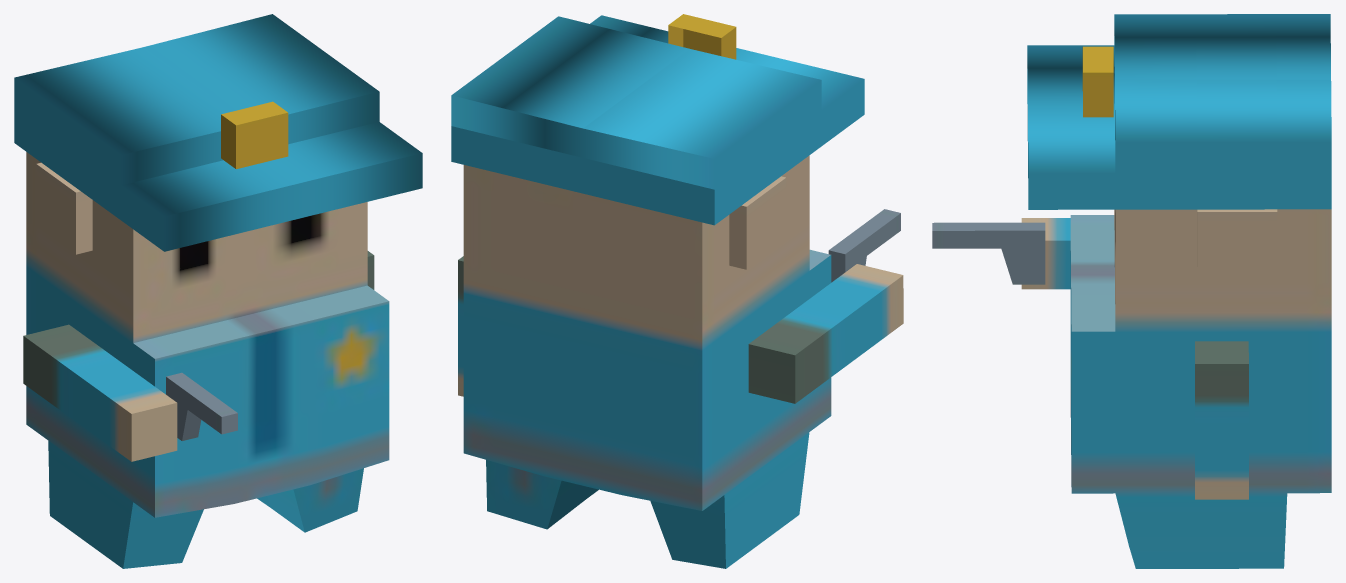
File: Police.fbx
3 renders of one model, left to right at view 1: azimuth 30°, elevation 25°; view 2: azimuth 150°, elevation 25°; view 3: azimuth 270°, elevation 25°, orthographic.
Visible parts, largest first — view 1: Body, Gun, CapLogo, L_Hand; view 2: Body, Gun, L_Hand, CapLogo, R_Hand; view 3: Body, R_Hand, L_Hand, CapLogo, Gun.
Boxes of the visible parts, x1=… form: Body: x1=14, y1=14, x2=422, y2=568; Gun: x1=23, y1=324, x2=177, y2=461; CapLogo: x1=221, y1=101, x2=288, y2=169; L_Hand: x1=166, y1=372, x2=237, y2=440; Body: x1=451, y1=15, x2=864, y2=568; Gun: x1=748, y1=264, x2=903, y2=403; L_Hand: x1=828, y1=209, x2=900, y2=282; CapLogo: x1=668, y1=14, x2=736, y2=59; R_Hand: x1=458, y1=256, x2=463, y2=396; Body: x1=1027, y1=14, x2=1331, y2=568; R_Hand: x1=1195, y1=341, x2=1248, y2=499; L_Hand: x1=932, y1=222, x2=1045, y2=284; CapLogo: x1=1082, y1=46, x2=1113, y2=117; Gun: x1=1021, y1=218, x2=1070, y2=289.
Size of the model in its own units: 2.51 by 3.27 by 2.6.
